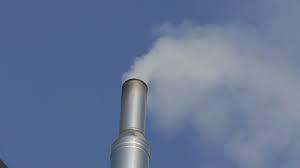smoke: (117, 0, 300, 168)
